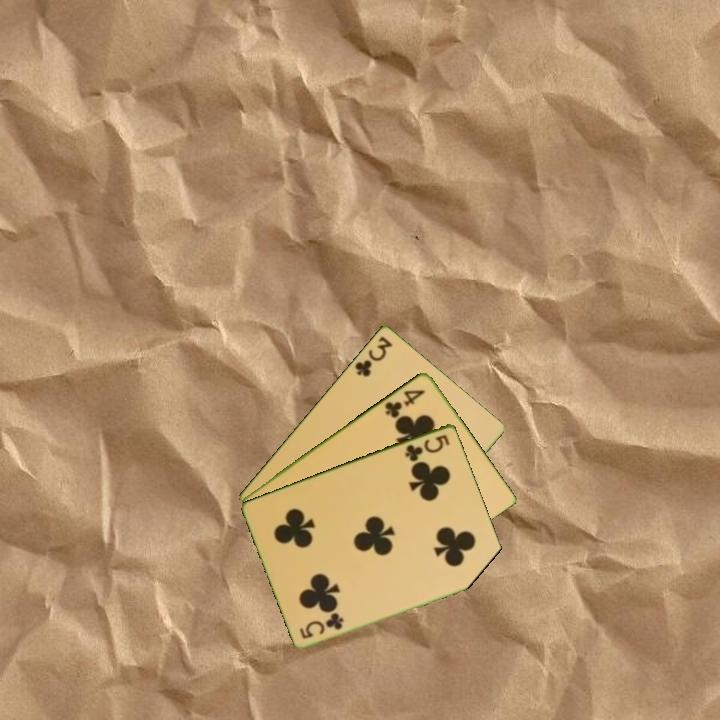3c: (351, 332, 396, 380)
4c: (381, 386, 428, 421)
5c: (401, 430, 453, 464), (296, 610, 347, 642)
